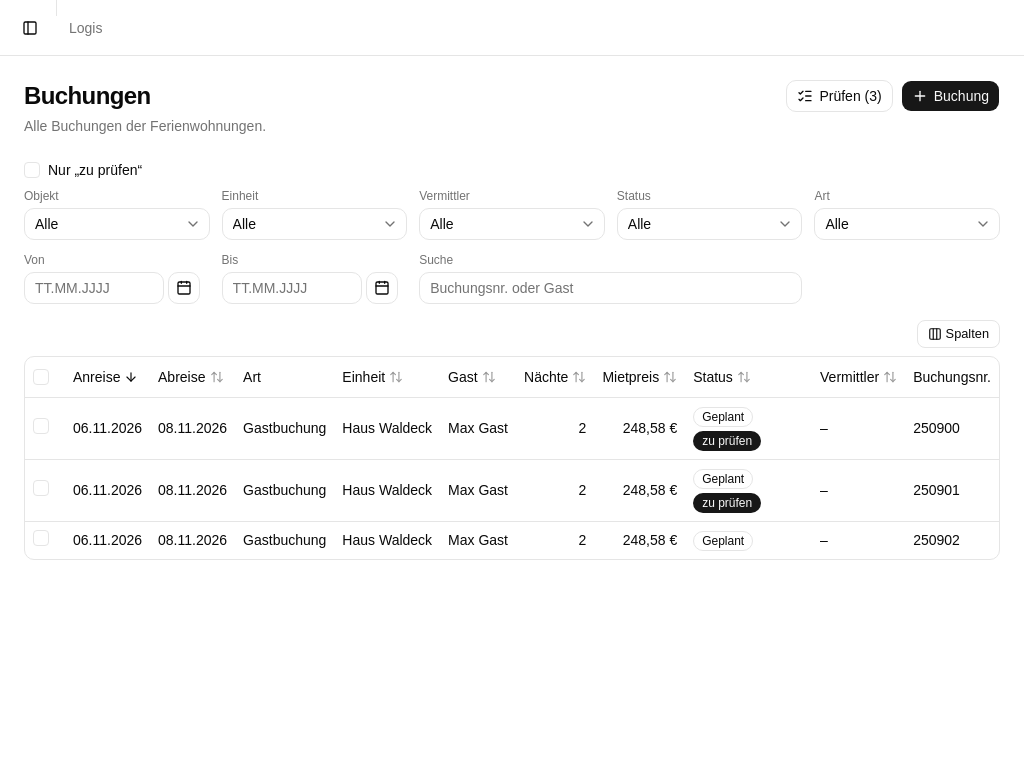
it: Bulk actions on bookings › confirms all bookings to review, and reports bookings that are not
Click the checkbox named "Alle auf dieser Seite auswählen": (41, 377) [33, 369, 49, 385]
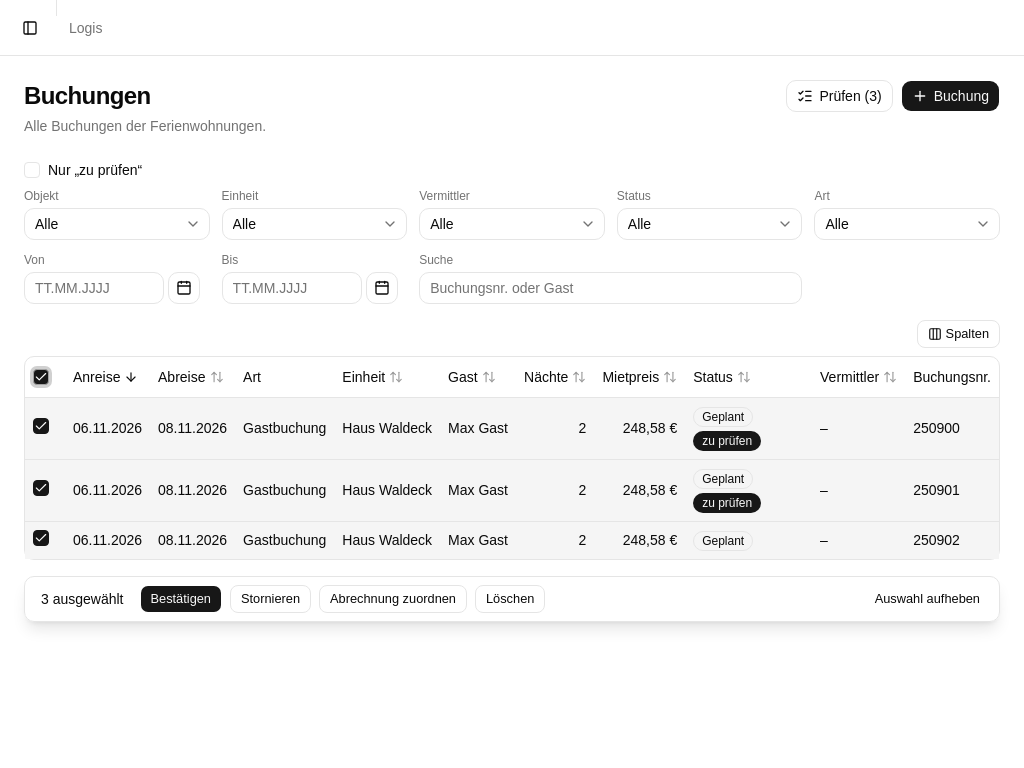
Expected: the text "3 ausgewählt" is shown, [41, 590, 124, 606]
Click the button "Bestätigen": (181, 598) [140, 584, 222, 612]
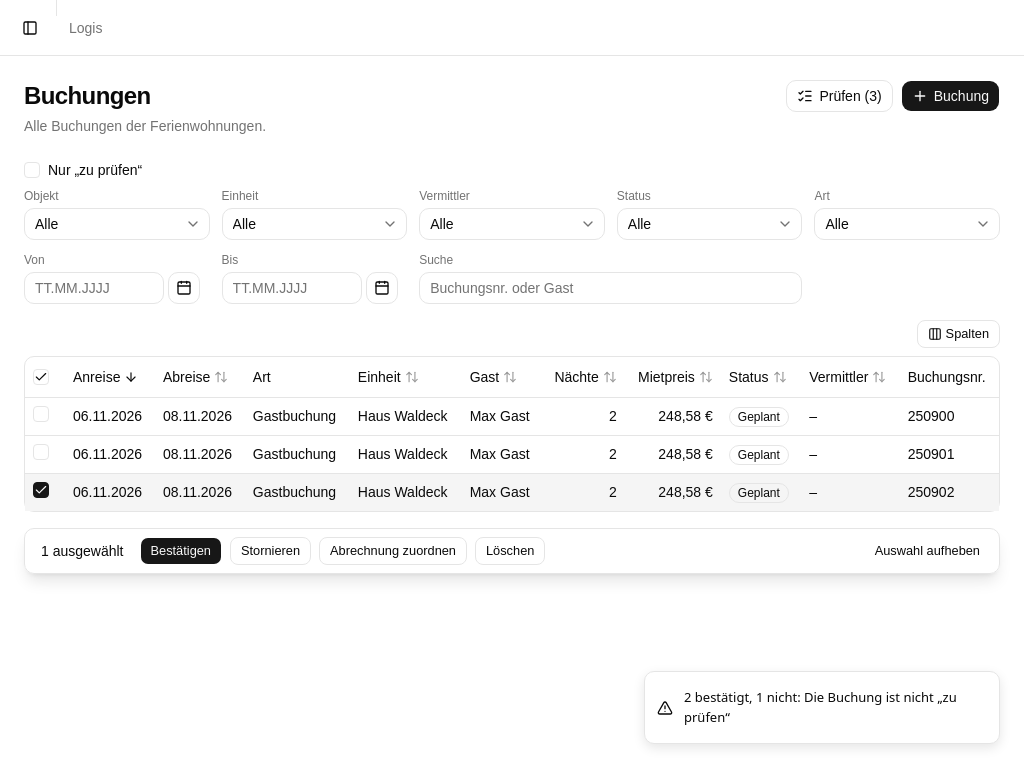
Expected: the checkbox named "Buchung 250902 06.11.2026 auswählen" is checked, [33, 482, 49, 498]
Expected: the text "2 bestätigt, 1 nicht: Die Buchung ist nicht „zu prüfen“" is shown, [684, 688, 983, 727]
Expected: the text "1 ausgewählt" is shown, [41, 542, 124, 558]
